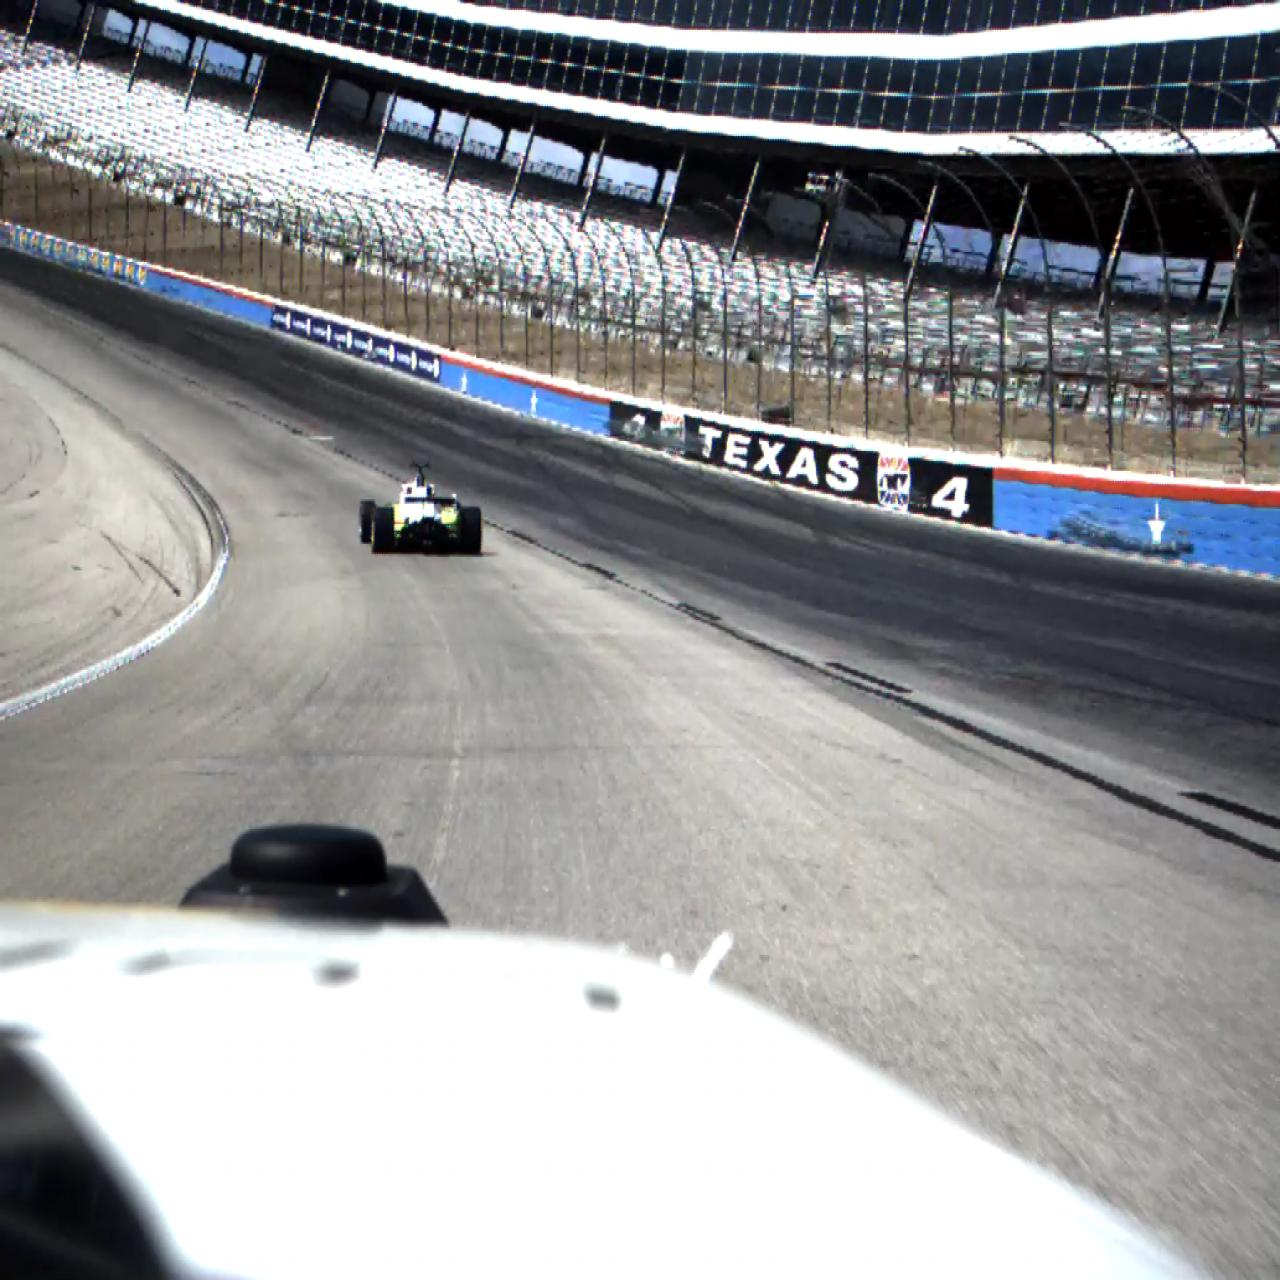AV: (358, 462, 483, 556)
Wheel: (370, 508, 395, 556), (458, 506, 482, 556), (359, 499, 376, 544)
